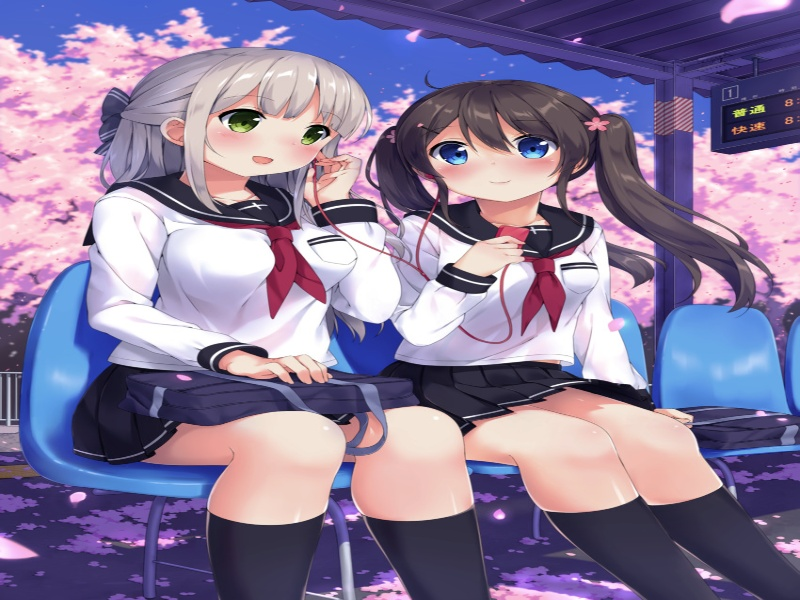person: (412, 105, 596, 216), (181, 75, 354, 192)
